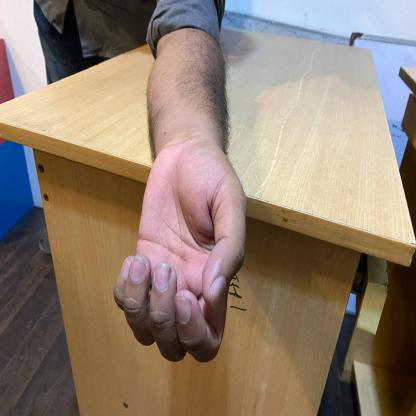hand: (109, 0, 253, 368)
